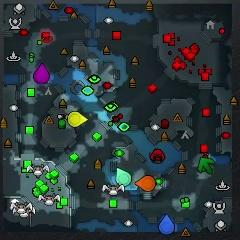p1: (159, 214, 175, 234)
p2: (116, 168, 132, 186)
p3: (34, 64, 49, 85)
p4: (68, 112, 89, 127)
p5: (135, 175, 156, 191)
x4: (198, 158, 215, 174)
